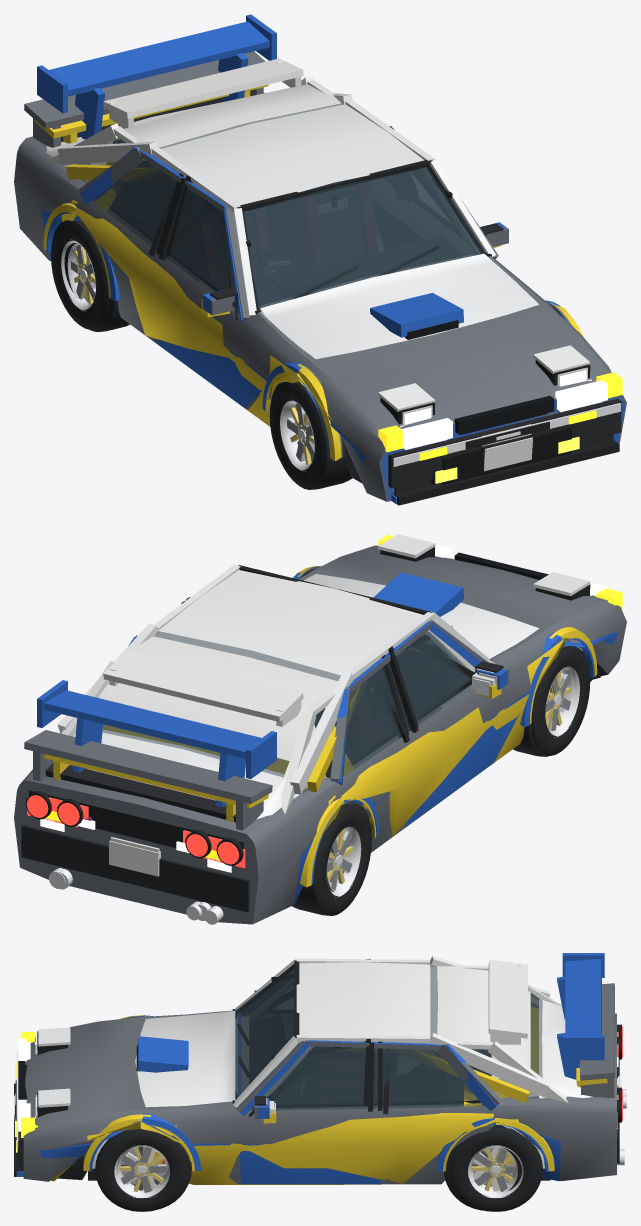
Rendered from touge_cars.glb.
3 renders of one model, top to bottom at view 1: azimuth 30°, elevation 25°; view 2: azimuth 150°, elevation 25°; view 3: azimuth 270°, elevation 25°, orthographic. The views are drawn at different scales.
Visible parts, largest first — view 1: Car_R32_Body, Car_AE86_Body, Car_GC8_Body, Car_RX7_Body, Car_EK9_Body, Car_R32_Wheel_FL, Car_GC8_Wheel_RL, Car_GC8_Wheel_FL, Car_R32_Wheel_RL, Car_EK9_Wheel_RL; view 2: Car_R32_Body, Car_AE86_Body, Car_GC8_Body, Car_EK9_Body, Car_RX7_Body, Car_R32_Wheel_RL, Car_GC8_Wheel_FL, Car_GC8_Wheel_RL, Car_R32_Wheel_FL, Car_EK9_Wheel_FL; view 3: Car_R32_Body, Car_AE86_Body, Car_GC8_Body, Car_RX7_Body, Car_EK9_Body, Car_GC8_Wheel_FR, Car_GC8_Wheel_RR, Car_R32_Wheel_FR, Car_R32_Wheel_RR, Car_EK9_Wheel_RR, Car_EK9_Wheel_FR.
Part boxes in pixels (bbox=[...]): Car_R32_Body: bbox=[14, 51, 626, 501]; Car_AE86_Body: bbox=[46, 91, 621, 494]; Car_GC8_Body: bbox=[37, 14, 625, 503]; Car_RX7_Body: bbox=[35, 84, 619, 505]; Car_EK9_Body: bbox=[46, 58, 591, 426]; Car_R32_Wheel_FL: bbox=[271, 384, 348, 489]; Car_GC8_Wheel_RL: bbox=[52, 223, 108, 329]; Car_GC8_Wheel_FL: bbox=[269, 381, 320, 484]; Car_R32_Wheel_RL: bbox=[51, 220, 101, 324]; Car_EK9_Wheel_RL: bbox=[64, 243, 129, 331]; Car_R32_Body: bbox=[14, 534, 626, 924]; Car_AE86_Body: bbox=[21, 534, 595, 920]; Car_GC8_Body: bbox=[27, 553, 618, 904]; Car_EK9_Body: bbox=[61, 595, 591, 813]; Car_RX7_Body: bbox=[44, 566, 604, 889]; Car_R32_Wheel_RL: bbox=[296, 810, 369, 915]; Car_GC8_Wheel_FL: bbox=[531, 650, 588, 755]; Car_GC8_Wheel_RL: bbox=[320, 805, 371, 910]; Car_R32_Wheel_FL: bbox=[539, 645, 590, 750]; Car_EK9_Wheel_FL: bbox=[513, 669, 575, 756]; Car_R32_Body: bbox=[16, 970, 626, 1184]; Car_AE86_Body: bbox=[14, 956, 620, 1179]; Car_GC8_Body: bbox=[16, 953, 624, 1184]; Car_RX7_Body: bbox=[14, 1007, 624, 1184]; Car_EK9_Body: bbox=[34, 959, 568, 1168]; Car_GC8_Wheel_FR: bbox=[102, 1129, 188, 1211]; Car_GC8_Wheel_RR: bbox=[449, 1126, 535, 1211]; Car_R32_Wheel_FR: bbox=[95, 1128, 181, 1211]; Car_R32_Wheel_RR: bbox=[456, 1126, 542, 1211]; Car_EK9_Wheel_RR: bbox=[444, 1141, 521, 1210]; Car_EK9_Wheel_FR: bbox=[117, 1141, 191, 1208].
Bounding box in the file's own units: 1.99 × 1.32 × 4.4.
